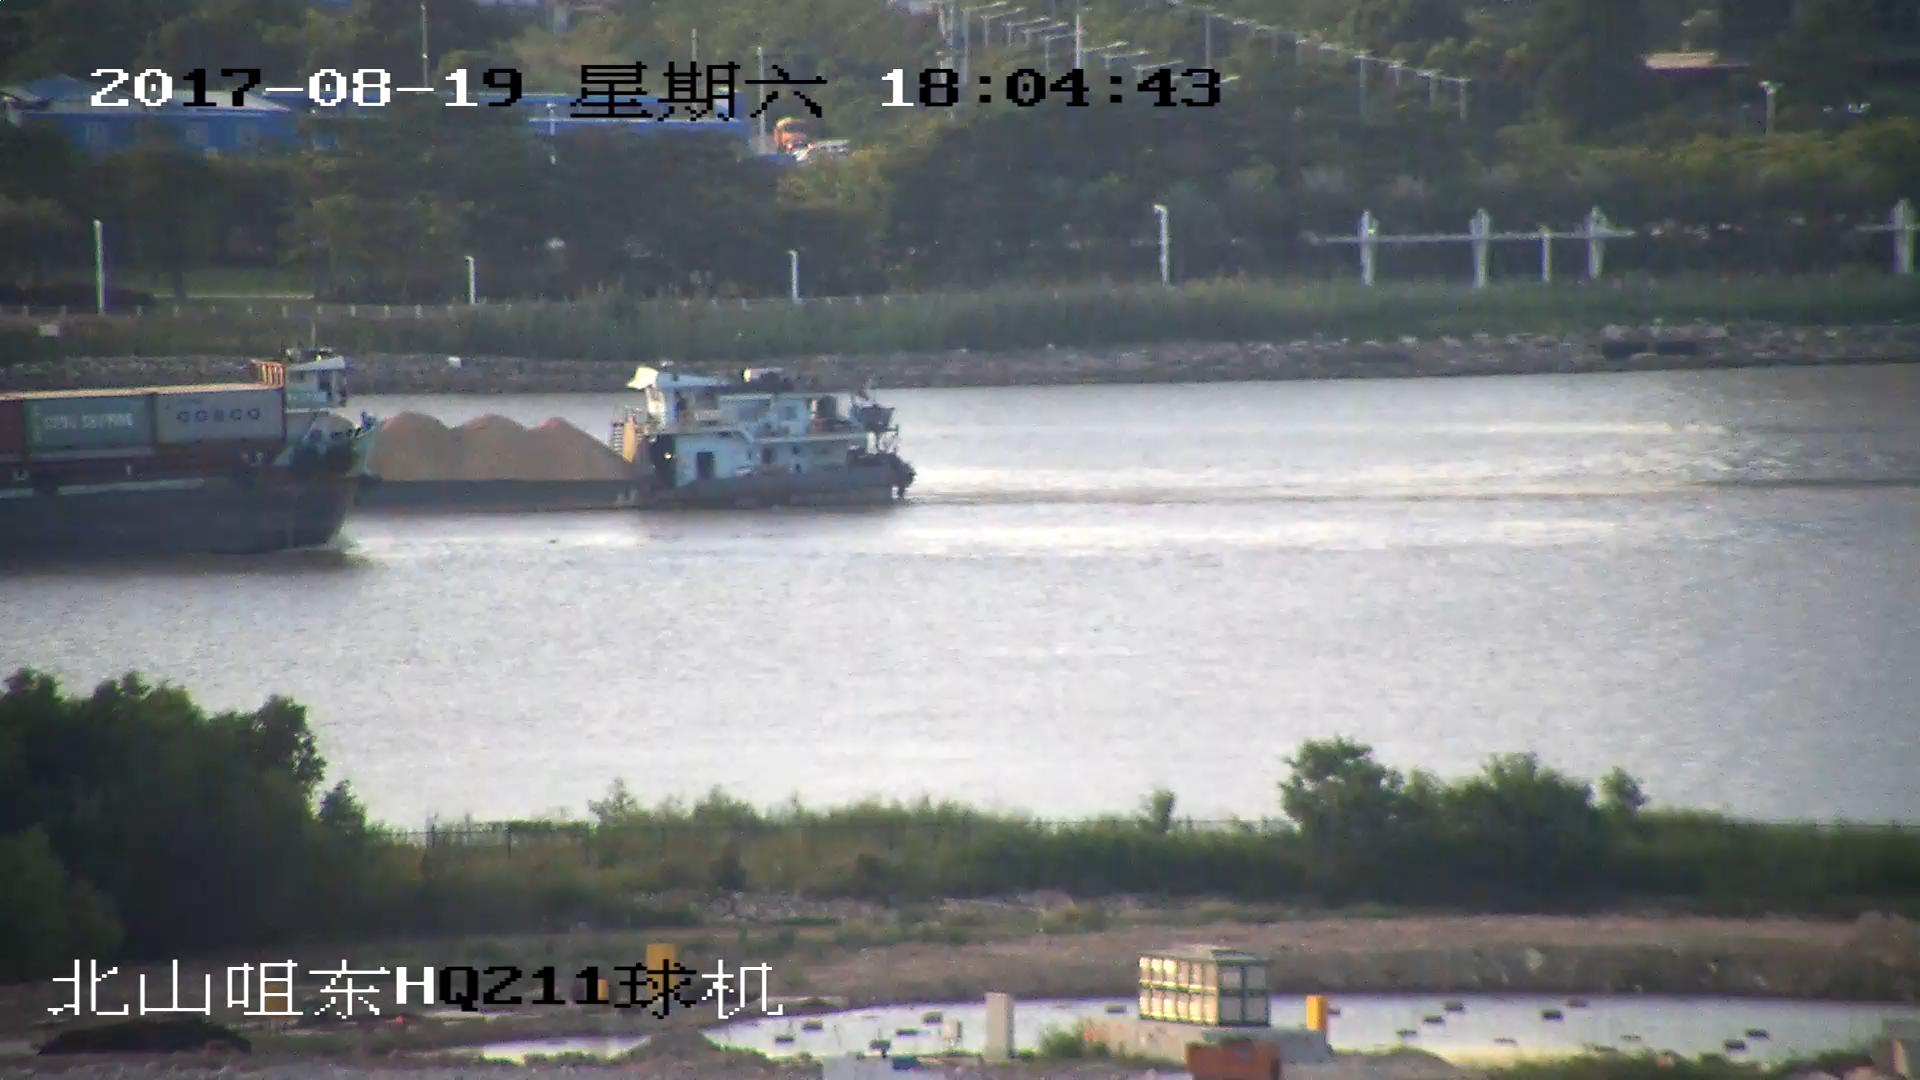container ship: (1, 338, 373, 561)
ore carrier: (280, 365, 914, 510)
